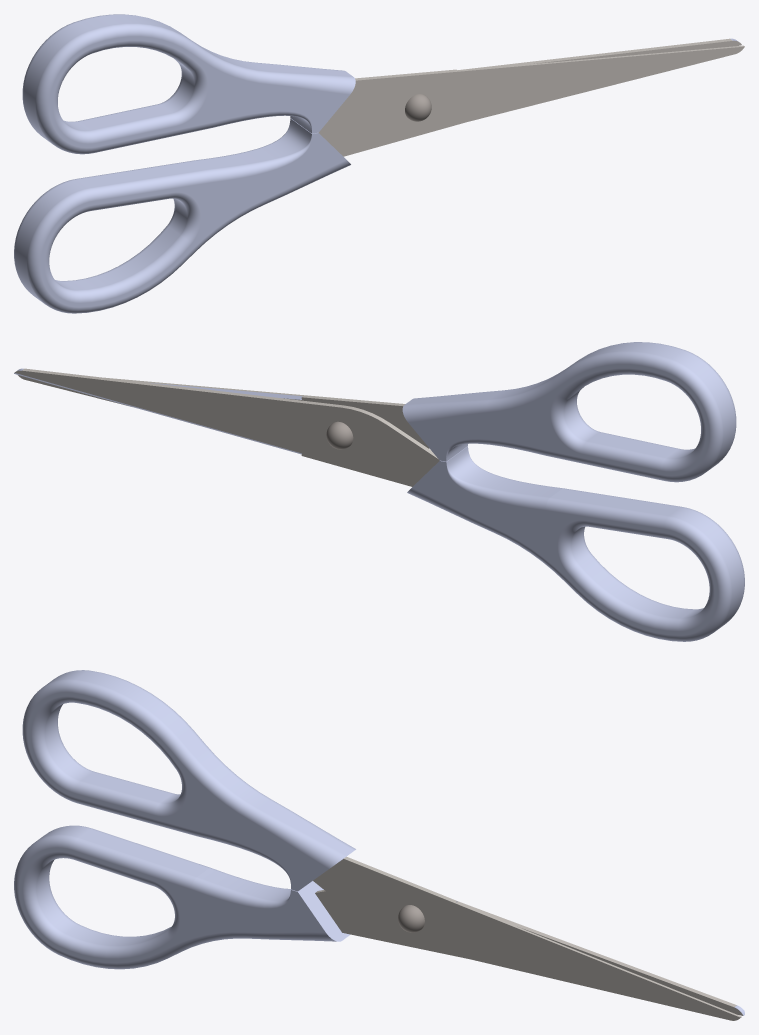
File: scissor_4.obj
The picture shows the model from 3 angles, top to bottom: view 1: azimuth 30°, elevation 25°; view 2: azimuth 150°, elevation 25°; view 3: azimuth 330°, elevation 25°; orthographic projection.
Parts seen in each view (by area): view 1: mesh53, mesh85, mesh47, mesh31, mesh6, mesh74, mesh29, mesh49, mesh37, mesh35, mesh76, mesh45 (+23 smaller); view 2: mesh11, mesh38, mesh94, mesh27, mesh78, mesh29, mesh43, mesh37, mesh30, mesh76, mesh45, mesh58 (+24 smaller); view 3: mesh53, mesh47, mesh85, mesh6, mesh35, mesh73, mesh66, mesh72, mesh86, mesh46, mesh32, mesh49 (+21 smaller).
Boxes of the visible parts, box(x1,y1,x2,y2) form: mesh53: box(328, 46, 744, 138); mesh85: box(49, 36, 349, 147); mesh47: box(40, 133, 346, 307); mesh31: box(27, 188, 94, 313); mesh6: box(318, 40, 741, 156); mesh74: box(35, 31, 97, 154); mesh29: box(15, 179, 89, 302); mesh49: box(77, 235, 190, 303); mesh37: box(197, 118, 311, 169); mesh35: box(90, 169, 212, 200); mesh76: box(24, 23, 87, 142); mesh45: box(66, 227, 180, 290); mesh11: box(14, 370, 439, 486); mesh38: box(412, 461, 718, 635); mesh94: box(408, 364, 709, 475); mesh27: box(664, 516, 731, 641); mesh78: box(661, 359, 723, 482); mesh29: box(669, 507, 743, 630); mesh43: box(567, 563, 681, 631); mesh37: box(446, 446, 561, 497); mesh30: box(546, 497, 668, 528); mesh76: box(671, 351, 734, 471); mesh45: box(578, 555, 692, 618); mesh58: box(18, 375, 429, 448); mesh53: box(313, 858, 740, 1020); mesh47: box(19, 847, 325, 962); mesh85: box(27, 692, 328, 891); mesh6: box(315, 891, 743, 1015); mesh35: box(73, 838, 196, 889); mesh73: box(72, 679, 180, 749); mesh66: box(250, 808, 346, 868); mesh72: box(77, 671, 191, 740); mesh86: box(31, 696, 80, 793); mesh46: box(22, 851, 73, 945); mesh32: box(79, 829, 208, 876); mesh49: box(59, 930, 169, 958).
Size of the model in its own units: 0.2898 by 0.1083 by 0.015.
